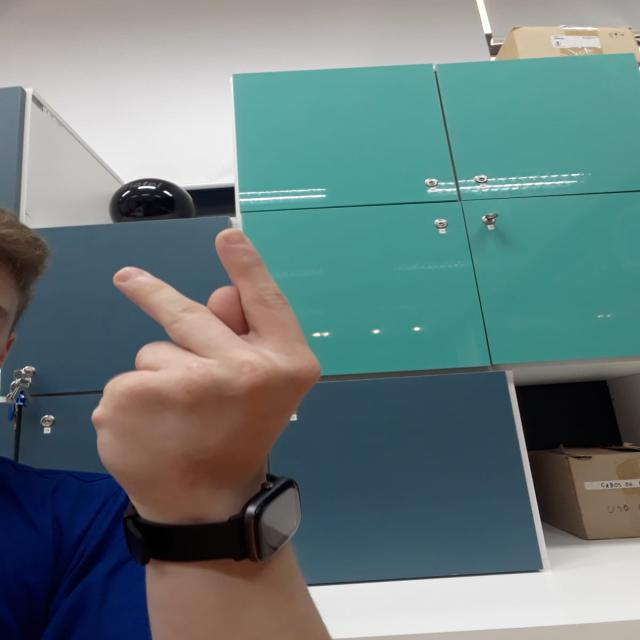K: (86, 230, 350, 494)
